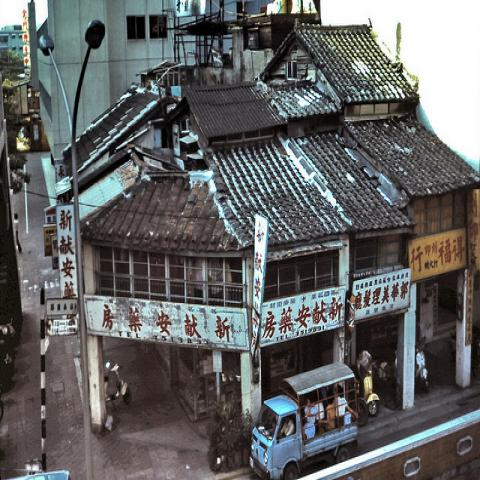motorcycle: (105, 359, 132, 404), (415, 336, 429, 393), (364, 368, 380, 416), (356, 383, 369, 427)
truck: (250, 360, 359, 474)
